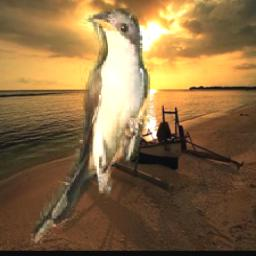Cuckoo: (30, 8, 149, 247)
